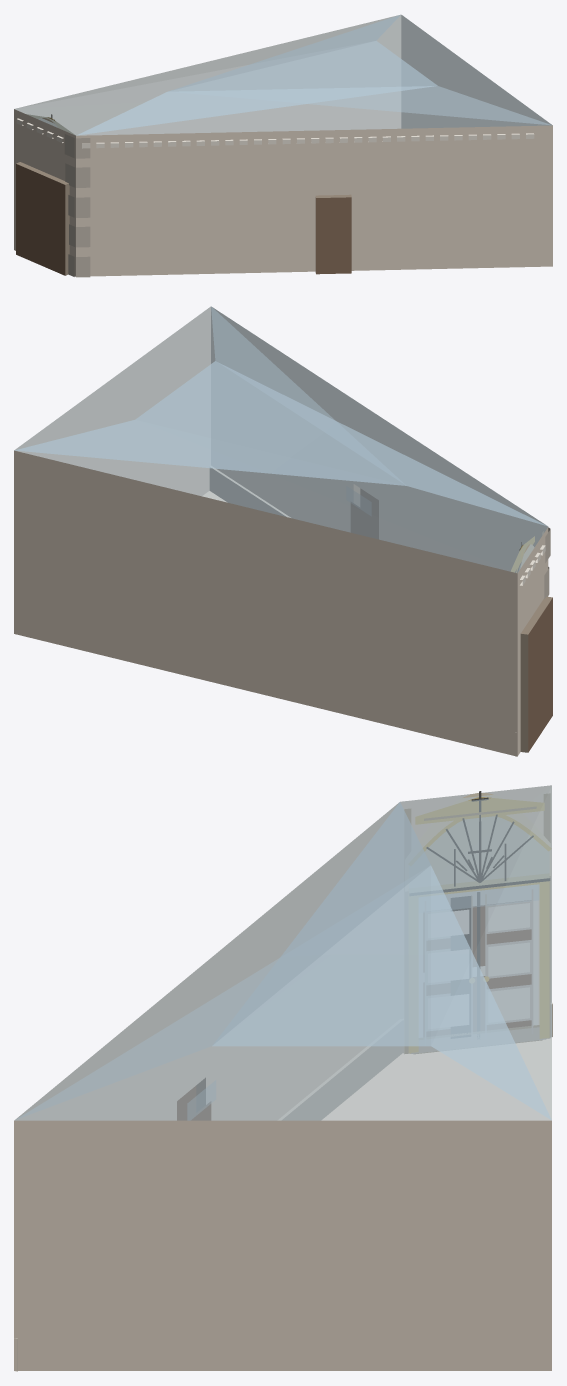
File: W-39-1.camli_vitre_passage.glb
3 views of the same model, one above another, from view 1: azimuth 30°, elevation 25°; view 2: azimuth 150°, elevation 25°; view 3: azimuth 270°, elevation 25° (orthographic). The views are drawn at different scales.
Parts seen in each view (by area): view 1: W-39-1.camli_vitre_passage; view 2: W-39-1.camli_vitre_passage; view 3: W-39-1.camli_vitre_passage.
Part boxes in pixels (<box>): W-39-1.camli_vitre_passage: <box>14,14,552,277</box>; W-39-1.camli_vitre_passage: <box>14,306,552,756</box>; W-39-1.camli_vitre_passage: <box>14,785,552,1371</box>.
Size of the model in its own units: 11.03 by 4.15 by 7.42.
